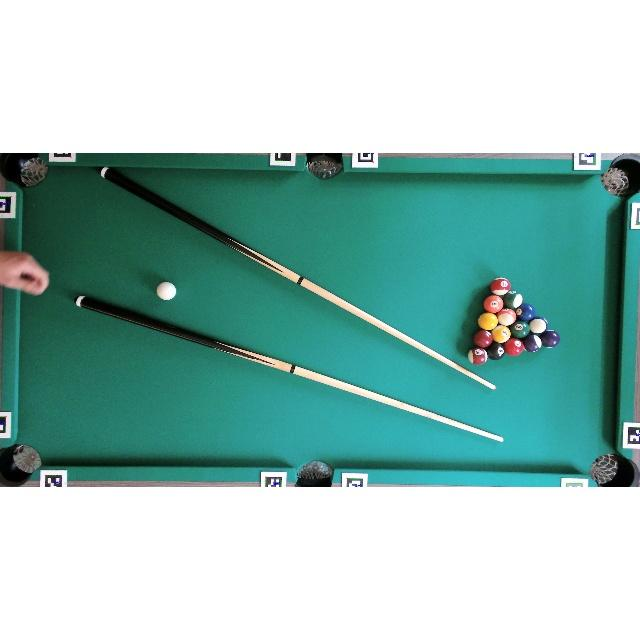cue ball: (156, 281, 177, 301)
other: (515, 303, 536, 322), (490, 277, 511, 296), (510, 320, 530, 339), (529, 316, 548, 336), (504, 338, 525, 356), (523, 333, 542, 352), (497, 308, 517, 326), (478, 313, 498, 331), (474, 330, 494, 348), (491, 325, 511, 343), (503, 291, 523, 309), (540, 330, 560, 348), (468, 347, 488, 365), (484, 295, 503, 313), (487, 342, 506, 360)
